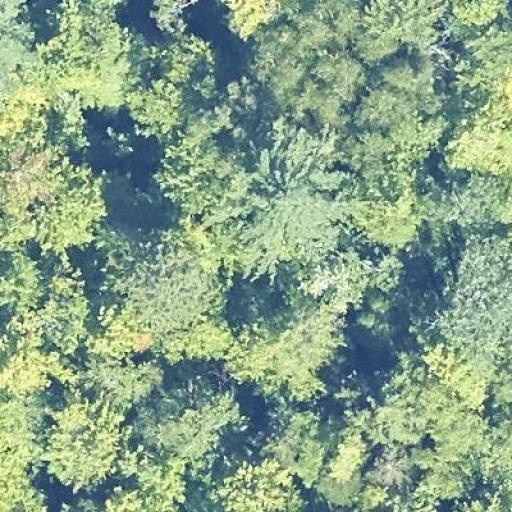tree-top: (246, 2, 435, 139), (208, 123, 348, 270), (359, 352, 494, 470), (425, 226, 511, 382), (0, 146, 105, 256), (124, 233, 228, 337), (239, 280, 342, 382), (36, 8, 130, 108), (144, 368, 244, 460), (44, 390, 136, 489), (208, 446, 308, 510), (432, 100, 510, 176), (36, 258, 96, 356), (356, 169, 427, 247), (453, 18, 511, 106), (0, 401, 44, 512), (128, 74, 198, 142), (160, 139, 226, 210), (259, 405, 317, 482), (148, 28, 216, 91), (0, 332, 64, 398), (90, 350, 161, 409), (0, 0, 44, 72), (365, 444, 417, 493), (139, 458, 182, 512), (366, 250, 406, 300), (456, 0, 506, 29)
